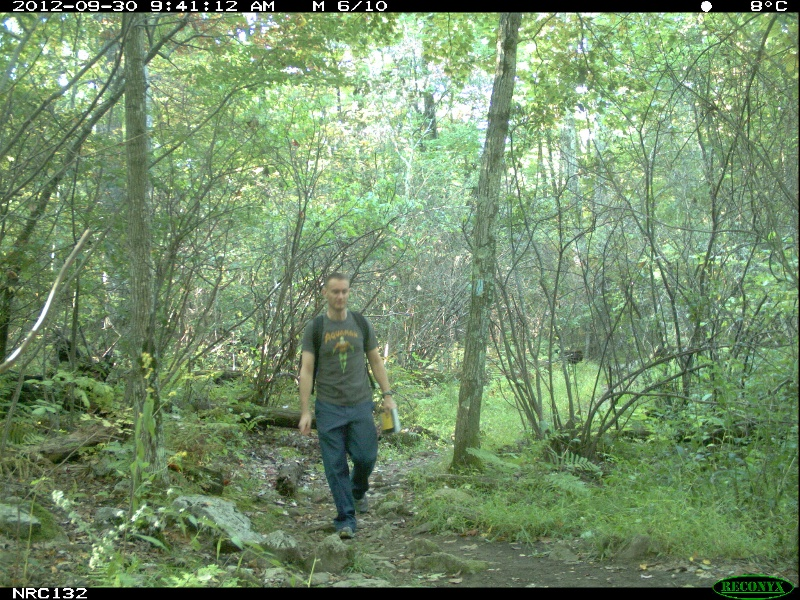human: (297, 268, 398, 540)
human face: (324, 277, 352, 312)
human legs: (312, 397, 385, 541)
